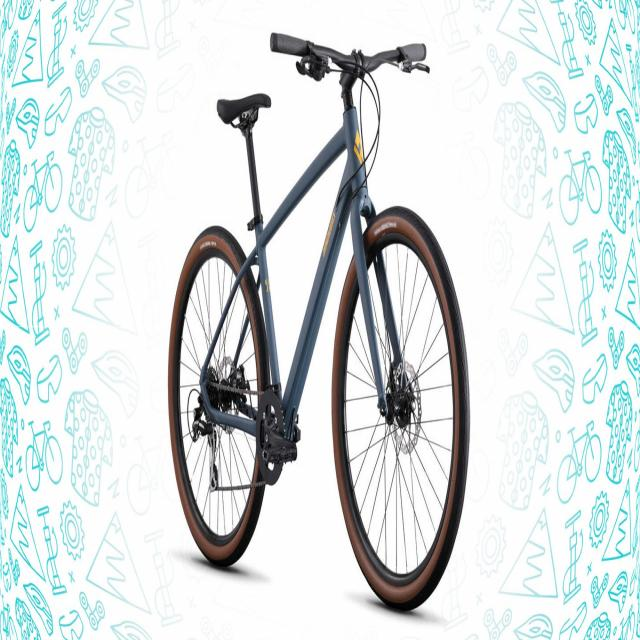bicycle: (154, 9, 483, 626)
